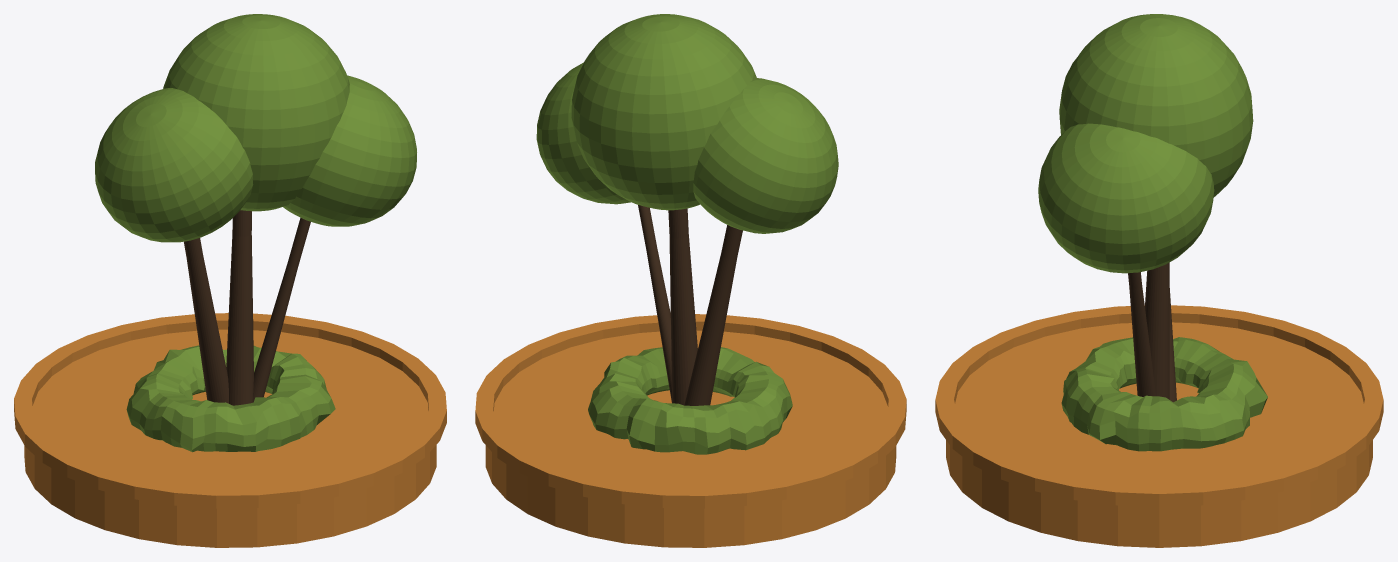
Rendered from garden.fbx.
The picture shows the model from 3 angles, left to right: view 1: azimuth 30°, elevation 25°; view 2: azimuth 150°, elevation 25°; view 3: azimuth 270°, elevation 25°; orthographic projection. The views are drawn at different scales.
Parts seen in each view (by area): view 1: Cylinder.001, Sphere, Sphere.001, Torus, Sphere.002, Cylinder.002, Cylinder.004, Cylinder.003; view 2: Cylinder.001, Sphere, Sphere.001, Torus, Sphere.002, Cylinder.002, Cylinder.004, Cylinder.003; view 3: Cylinder.001, Sphere, Sphere.002, Torus, Cylinder.002, Cylinder.003, Cylinder.004.
Part boxes in pixels (left/top/right/bottom): Cylinder.001: left=14, top=313, right=446, bottom=547; Sphere: left=163, top=14, right=349, bottom=211; Sphere.001: left=95, top=88, right=253, bottom=242; Torus: left=126, top=345, right=335, bottom=452; Sphere.002: left=283, top=75, right=416, bottom=226; Cylinder.002: left=226, top=210, right=253, bottom=405; Cylinder.004: left=184, top=238, right=228, bottom=403; Cylinder.003: left=252, top=217, right=310, bottom=402; Cylinder.001: left=475, top=314, right=906, bottom=547; Sphere: left=571, top=14, right=756, bottom=210; Sphere.001: left=693, top=78, right=838, bottom=233; Torus: left=588, top=347, right=792, bottom=454; Sphere.002: left=536, top=62, right=630, bottom=204; Cylinder.002: left=668, top=208, right=697, bottom=405; Cylinder.004: left=684, top=225, right=742, bottom=405; Cylinder.003: left=638, top=205, right=671, bottom=401; Cylinder.001: left=935, top=305, right=1383, bottom=547; Sphere: left=1059, top=14, right=1253, bottom=197; Sphere.002: left=1038, top=123, right=1214, bottom=273; Torus: left=1061, top=337, right=1267, bottom=451; Cylinder.002: left=1145, top=262, right=1169, bottom=399; Cylinder.003: left=1128, top=272, right=1156, bottom=396; Cylinder.004: left=1169, top=288, right=1176, bottom=402.
Size of the model in its own units: 3508 by 3864 by 3508.
